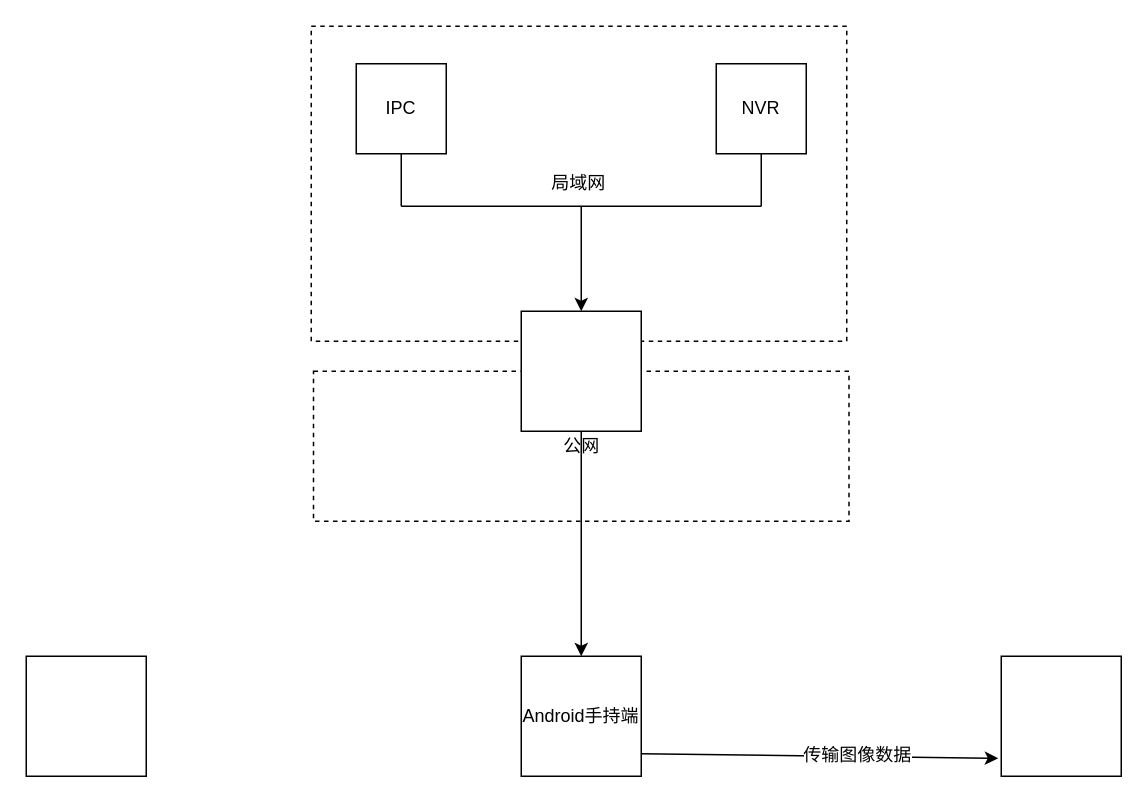
Some shapes in this 1148 by 803 pixel diagram are drawn without their labels. Each missing label, with the centre of its shape:
"NVR服务器" belongs at (x=580, y=370).
"标定屏端" belongs at (x=85, y=715).
"算法端" belongs at (x=1060, y=715).
